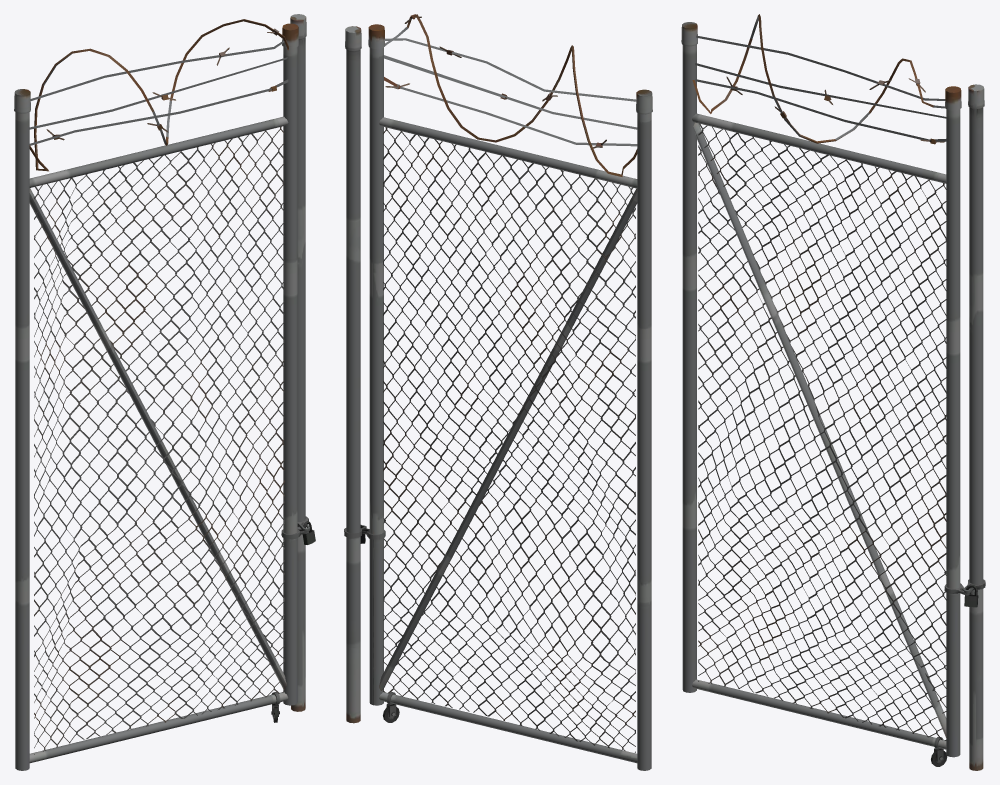
3 views of the same model, side by side, from view 1: azimuth 30°, elevation 25°; view 2: azimuth 150°, elevation 25°; view 3: azimuth 330°, elevation 25° (orthographic).
Visible parts, largest first — view 1: body0_model0_lod0_mesh0, body0_model0_lod0_mesh1; view 2: body0_model0_lod0_mesh0, body0_model0_lod0_mesh1; view 3: body0_model0_lod0_mesh0, body0_model0_lod0_mesh1.
Part boxes in pixels (<box>): body0_model0_lod0_mesh0: <box>14,14,315,770</box>; body0_model0_lod0_mesh1: <box>34,126,284,754</box>; body0_model0_lod0_mesh0: <box>344,14,652,770</box>; body0_model0_lod0_mesh1: <box>383,127,635,752</box>; body0_model0_lod0_mesh0: <box>681,14,985,770</box>; body0_model0_lod0_mesh1: <box>698,123,946,740</box>.
Bounding box in the file's own units: 134 × 307 × 34.57.
Materials: 2 (2 with a texture image).
